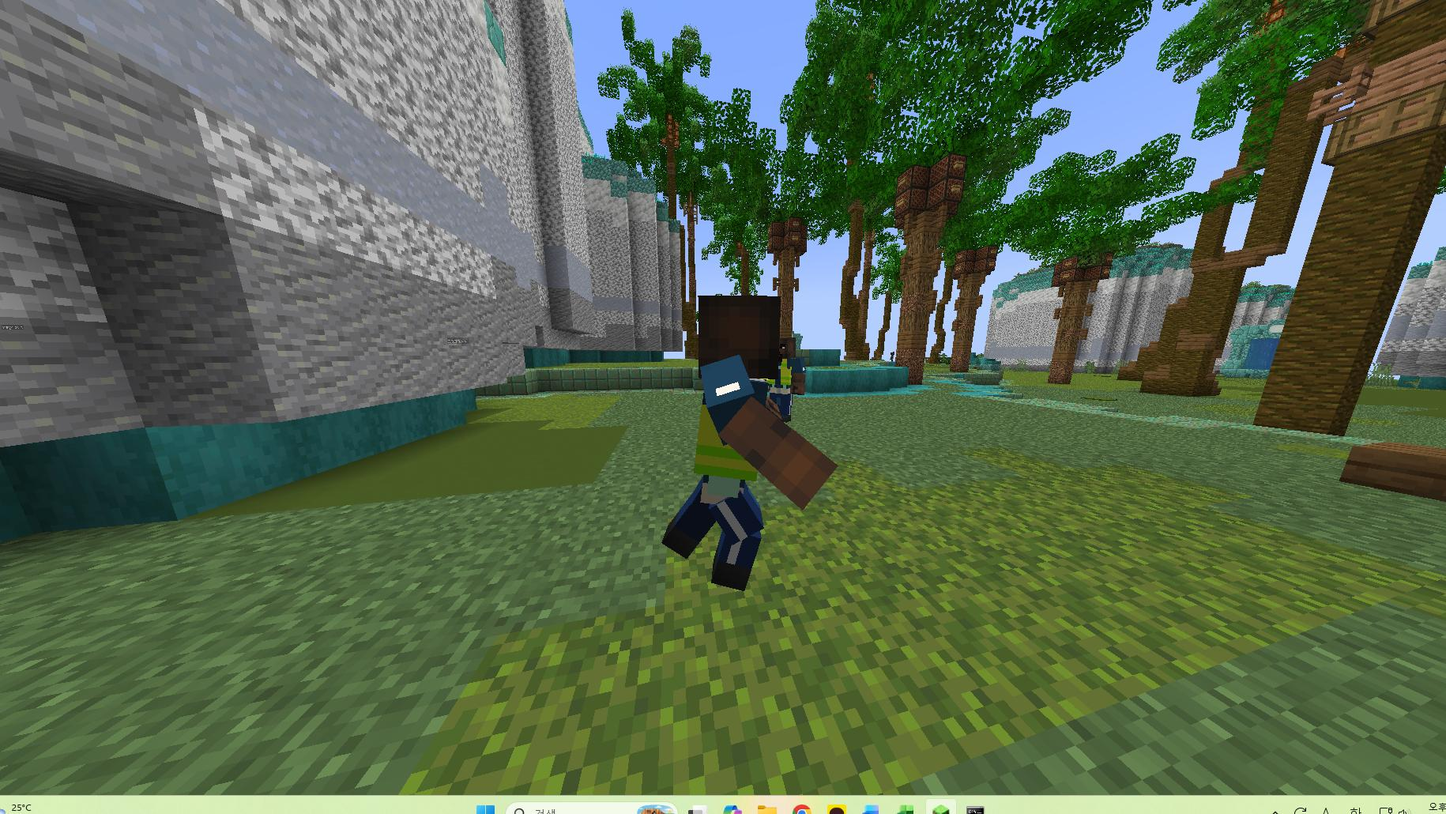Guardian: (662, 296, 834, 590)
